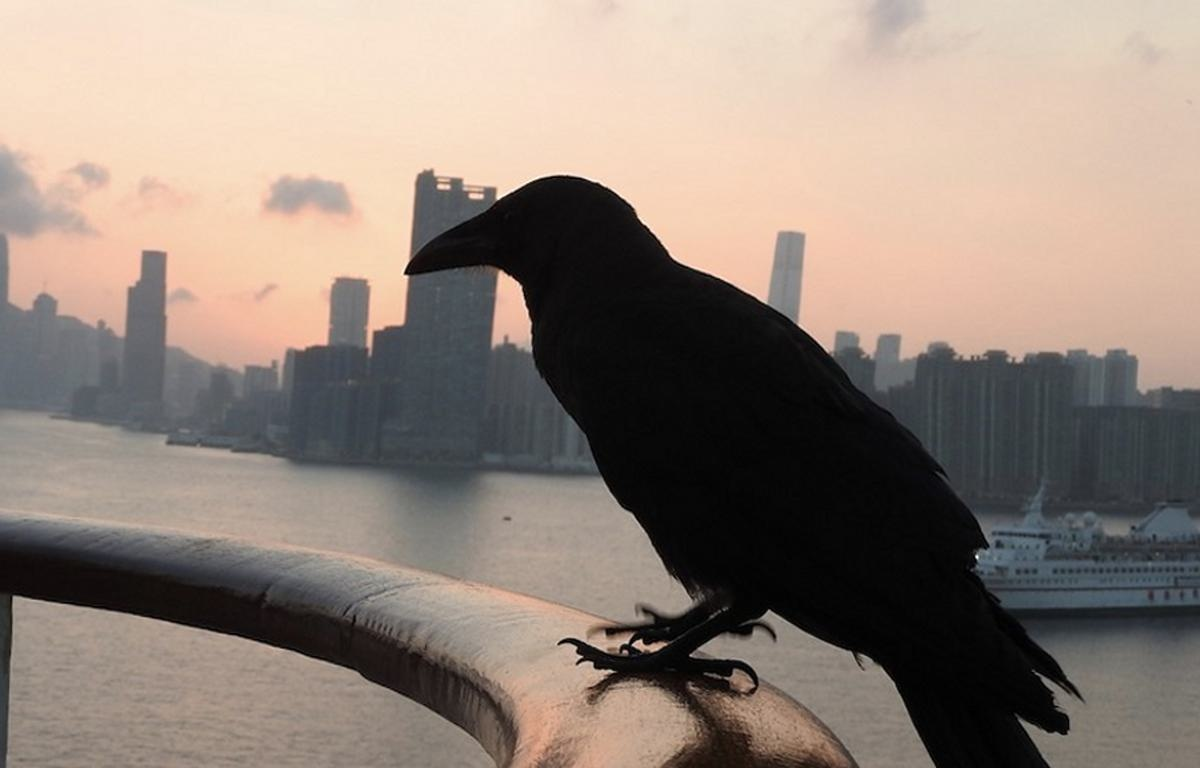crow: (389, 169, 1074, 753)
